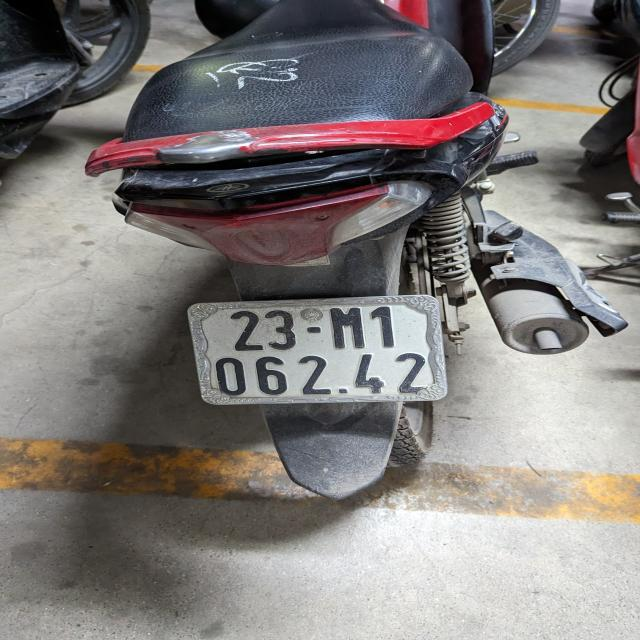license: (186, 293, 448, 406)
